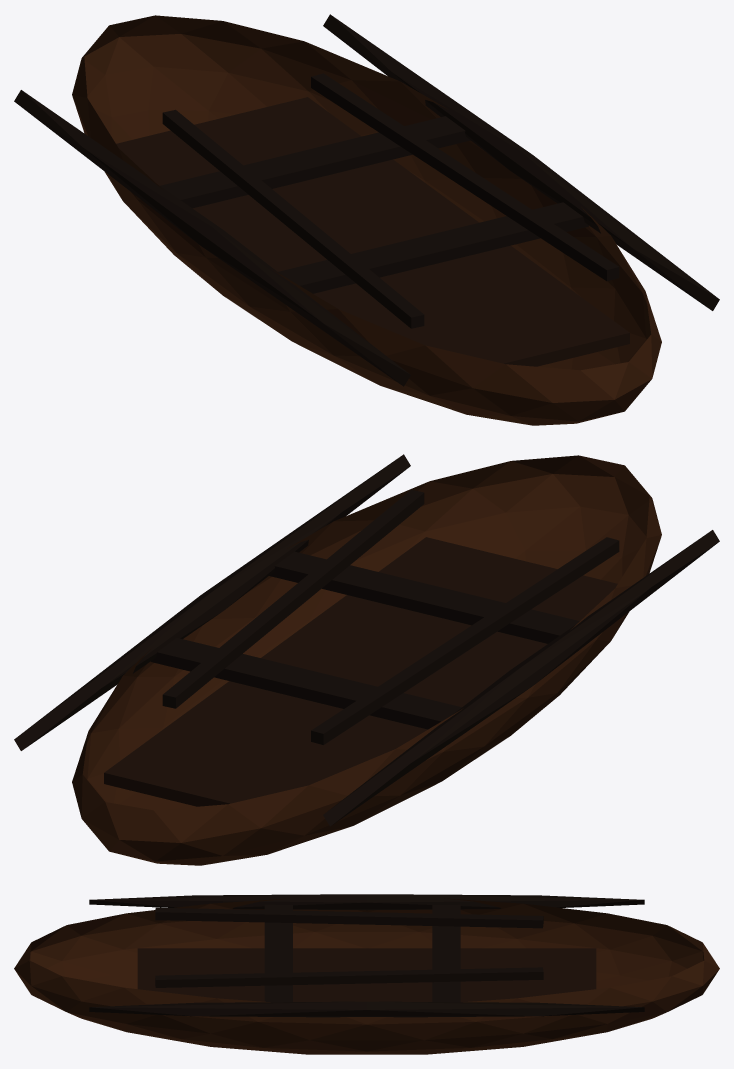
File: boat.fbx
3 views of the same model, one above another, from view 1: azimuth 30°, elevation 25°; view 2: azimuth 150°, elevation 25°; view 3: azimuth 270°, elevation 25° (orthographic). The views are drawn at different scales.
Parts seen in each view (by area): view 1: boat; view 2: boat; view 3: boat.
Part boxes in pixels (box(x1,y1,x2,y2)): boat: box(14, 14, 719, 425); boat: box(14, 454, 719, 865); boat: box(14, 894, 719, 1054).
Bounding box in the file's own units: 1.55 × 0.575 × 4.
